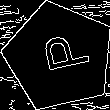P_W: (29, 33, 89, 81)
